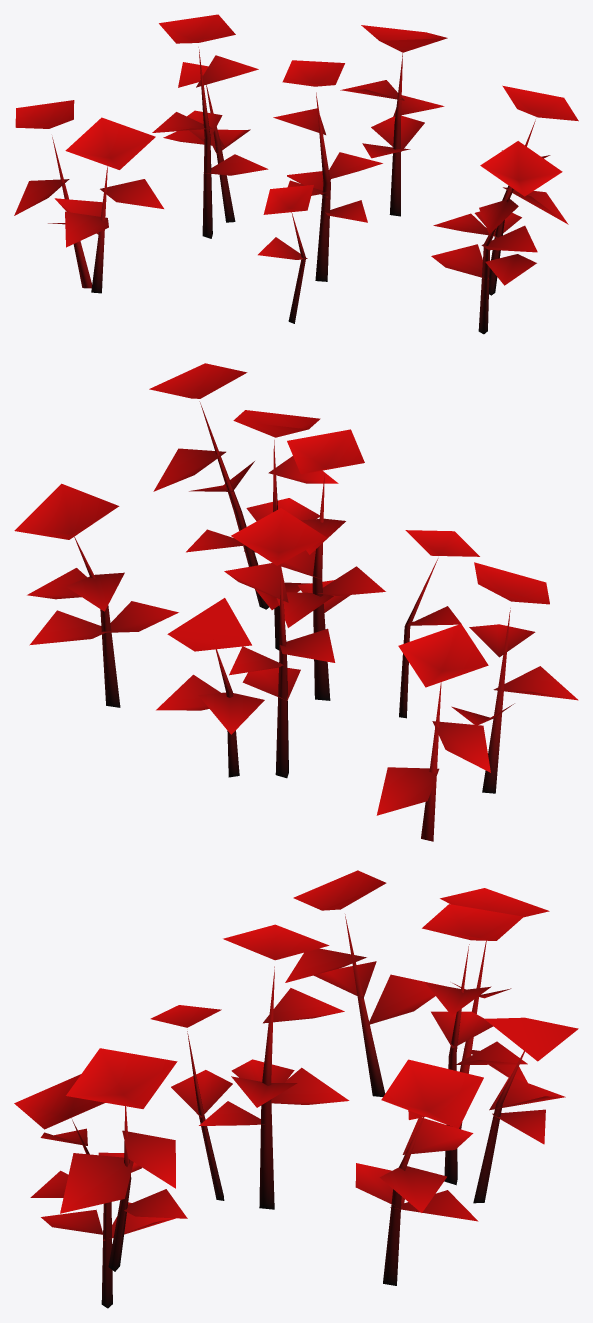
File: G_WhiteFlower_002_S1.FBX
3 renders of one model, top to bottom at view 1: azimuth 30°, elevation 25°; view 2: azimuth 150°, elevation 25°; view 3: azimuth 270°, elevation 25°, orthographic. The views are drawn at different scales.
Parts seen in each view (by area): view 1: G_WhiteFlower_002_S1_P01_LOD0; view 2: G_WhiteFlower_002_S1_P01_LOD0; view 3: G_WhiteFlower_002_S1_P01_LOD0.
Boxes of the visible parts, x1,y1,x2,y2 form: G_WhiteFlower_002_S1_P01_LOD0: [14, 14, 578, 334]; G_WhiteFlower_002_S1_P01_LOD0: [14, 363, 578, 841]; G_WhiteFlower_002_S1_P01_LOD0: [14, 870, 578, 1308].
Size of what is drawn, in the model's own units: 117 by 62.89 by 106.
